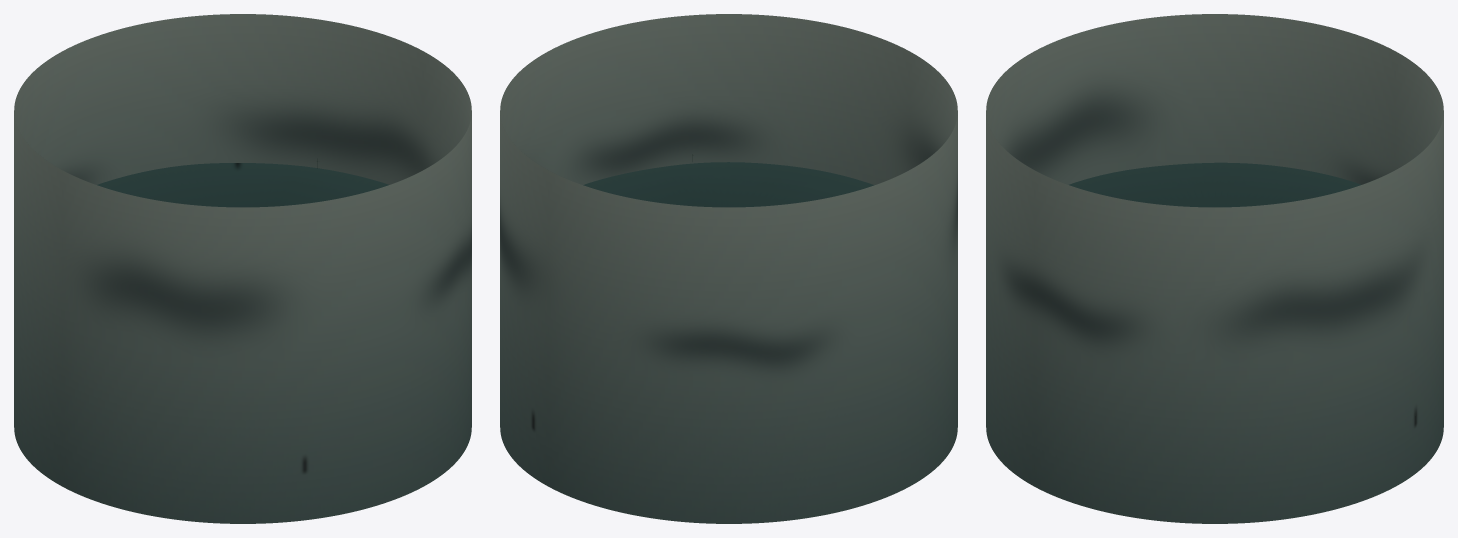
The model's file is regatta-panorama.glb.
3 renders of one model, left to right at view 1: azimuth 30°, elevation 25°; view 2: azimuth 150°, elevation 25°; view 3: azimuth 270°, elevation 25°, orthographic.
Visible parts, largest first — view 1: RegattaPanorama; view 2: RegattaPanorama; view 3: RegattaPanorama.
Part boxes in pixels (box(x1,y1,x2,y2)): RegattaPanorama: box(14, 14, 471, 523); RegattaPanorama: box(500, 14, 957, 523); RegattaPanorama: box(986, 14, 1443, 523).
Size of the model in its own units: 380 by 290 by 380.
1 material, 1 textured.
